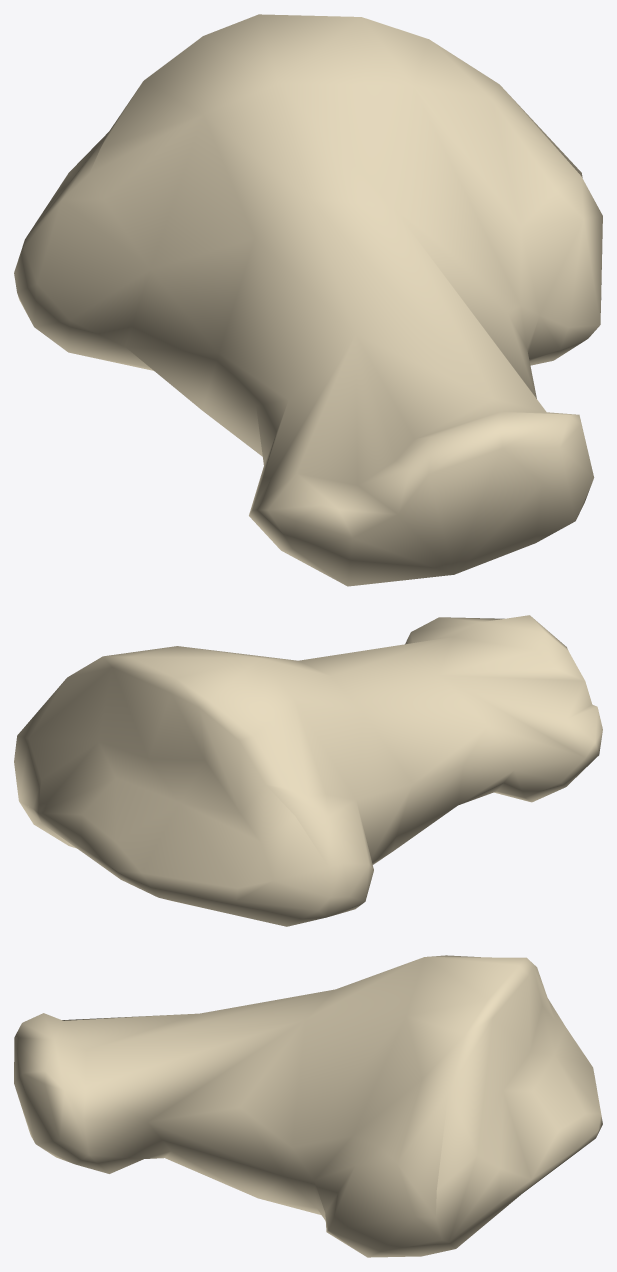
Rendered from esqueleto-distal-phalanx-of-first-finger-of-foot-r.glb.
3 views of the same model, one above another, from view 1: azimuth 30°, elevation 25°; view 2: azimuth 150°, elevation 25°; view 3: azimuth 270°, elevation 25° (orthographic). The views are drawn at different scales.
Visible parts, largest first — view 1: Distal phalanx of first finger of foot.r; view 2: Distal phalanx of first finger of foot.r; view 3: Distal phalanx of first finger of foot.r.
Boxes of the visible parts, left/top/right/bottom form: Distal phalanx of first finger of foot.r: left=14, top=14, right=602, bottom=586; Distal phalanx of first finger of foot.r: left=14, top=615, right=602, bottom=926; Distal phalanx of first finger of foot.r: left=14, top=955, right=602, bottom=1257.
Size of the model in its own units: 0.0207 by 0.0115 by 0.0268.
